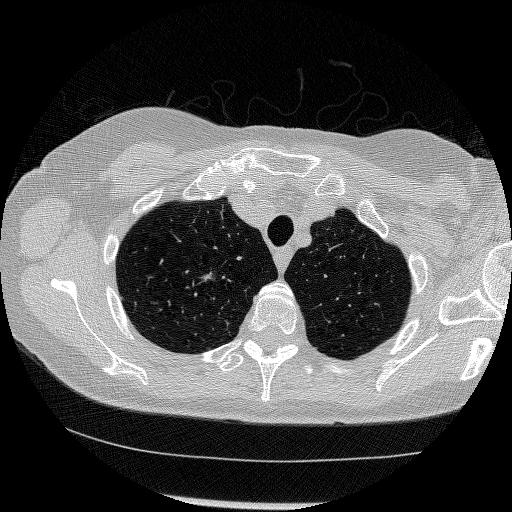nodule: (199, 270, 213, 284)
